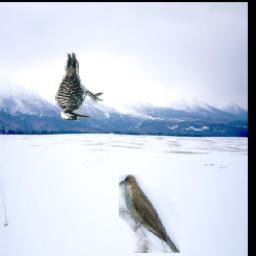Cuckoo: (119, 176, 180, 254)
Woodpecker: (54, 53, 104, 121)
